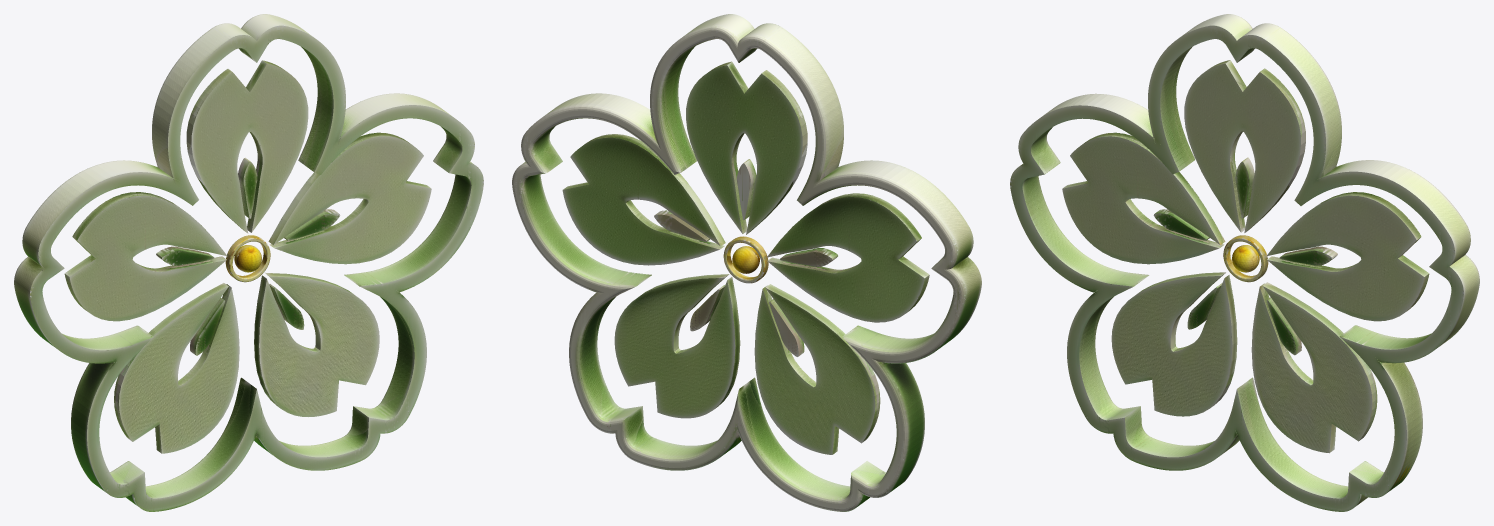
3 views of the same model, side by side, from view 1: azimuth 30°, elevation 25°; view 2: azimuth 150°, elevation 25°; view 3: azimuth 330°, elevation 25° (orthographic).
Parts seen in each view (by area): view 1: Node; view 2: Node; view 3: Node.
Boxes of the visible parts, <box> form: Node: <box>14,14,483,511</box>; Node: <box>512,14,981,511</box>; Node: <box>1010,14,1479,511</box>.
Size of the model in its own units: 2 by 1.93 by 0.1348.
1 material, 1 textured.
